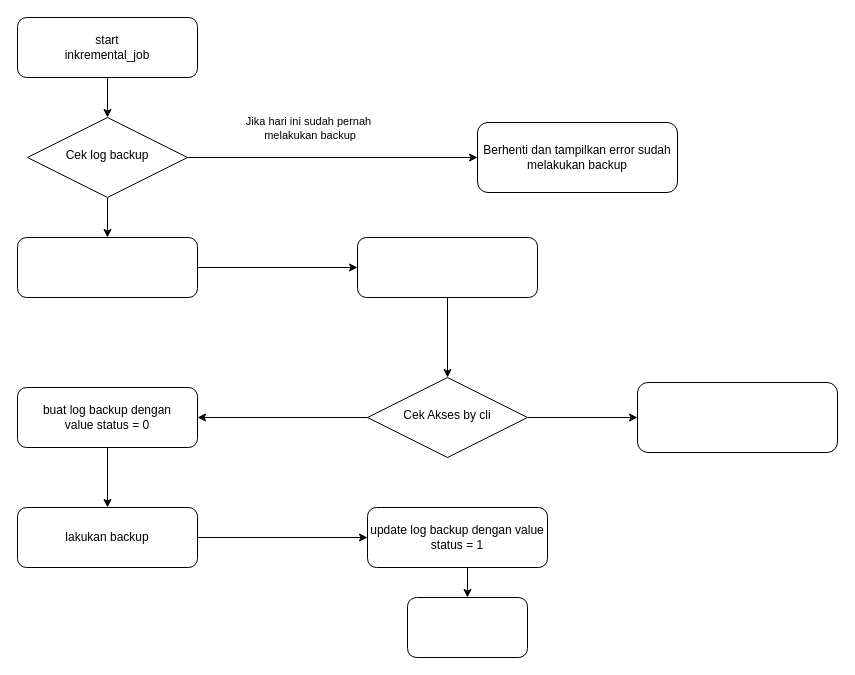
The diagram is 855 pixels wide and 675 high, and some of its shapes have lost their labels. Here are the shapes that lost their labels. From the top down, the centre of each, then its label:
At (107,267): "Jalankan Background job".
At (447,267): "job controller".
At (737,417): "Stop".
At (467,627): "Selesai".
